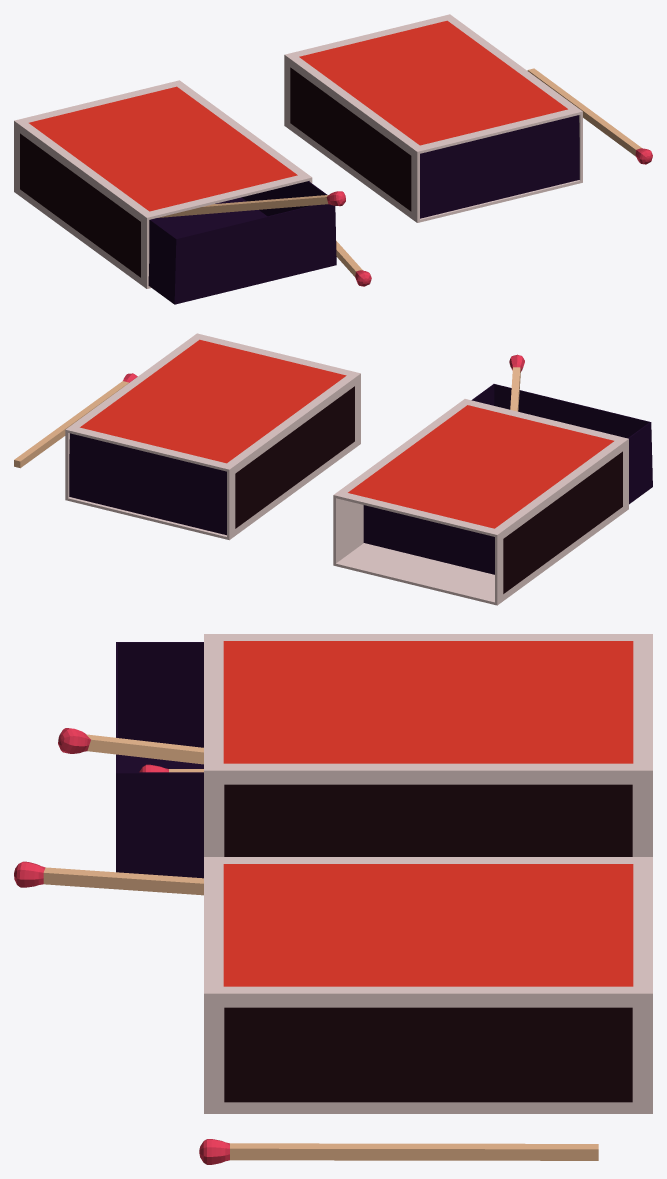
File: Matches.glb
The picture shows the model from 3 angles, top to bottom: view 1: azimuth 30°, elevation 25°; view 2: azimuth 150°, elevation 25°; view 3: azimuth 270°, elevation 25°; orthographic projection. The views are drawn at different scales.
Parts seen in each view (by area): view 1: Matches Box + Matches, Matches Box, Matches; view 2: Matches Box + Matches, Matches Box, Matches; view 3: Matches Box + Matches, Matches Box, Matches.
Part boxes in pixels (x1=…): Matches Box + Matches: x1=14, y1=80, x2=371, y2=304; Matches Box: x1=284, y1=14, x2=582, y2=222; Matches: x1=527, y1=68, x2=652, y2=164; Matches Box + Matches: x1=333, y1=354, x2=652, y2=605; Matches Box: x1=65, y1=333, x2=360, y2=540; Matches: x1=14, y1=373, x2=137, y2=468; Matches Box + Matches: x1=14, y1=634, x2=652, y2=895; Matches Box: x1=204, y1=857, x2=652, y2=1113; Matches: x1=199, y1=1139, x2=598, y2=1164.
Size of the model in its own units: 0.55 by 0.0929 by 0.3552.
Materials: 1 (1 with a texture image).
